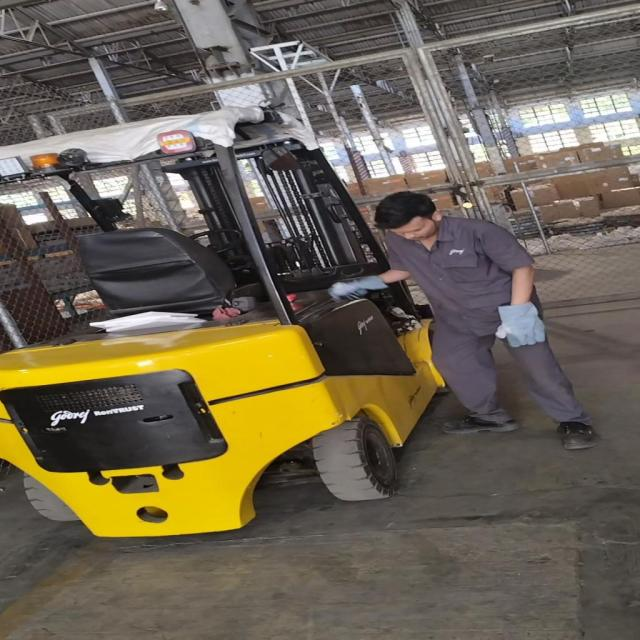Gloves-Detection: (490, 302, 556, 354), (326, 278, 383, 302)
